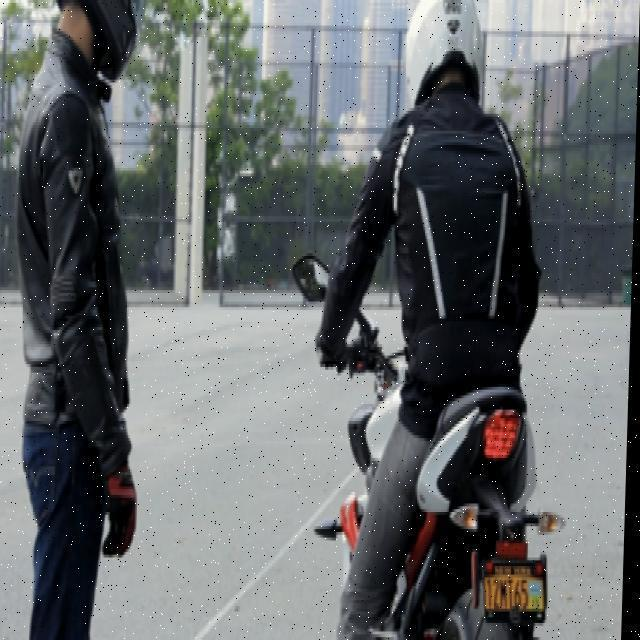Helmet: (400, 0, 489, 122)
